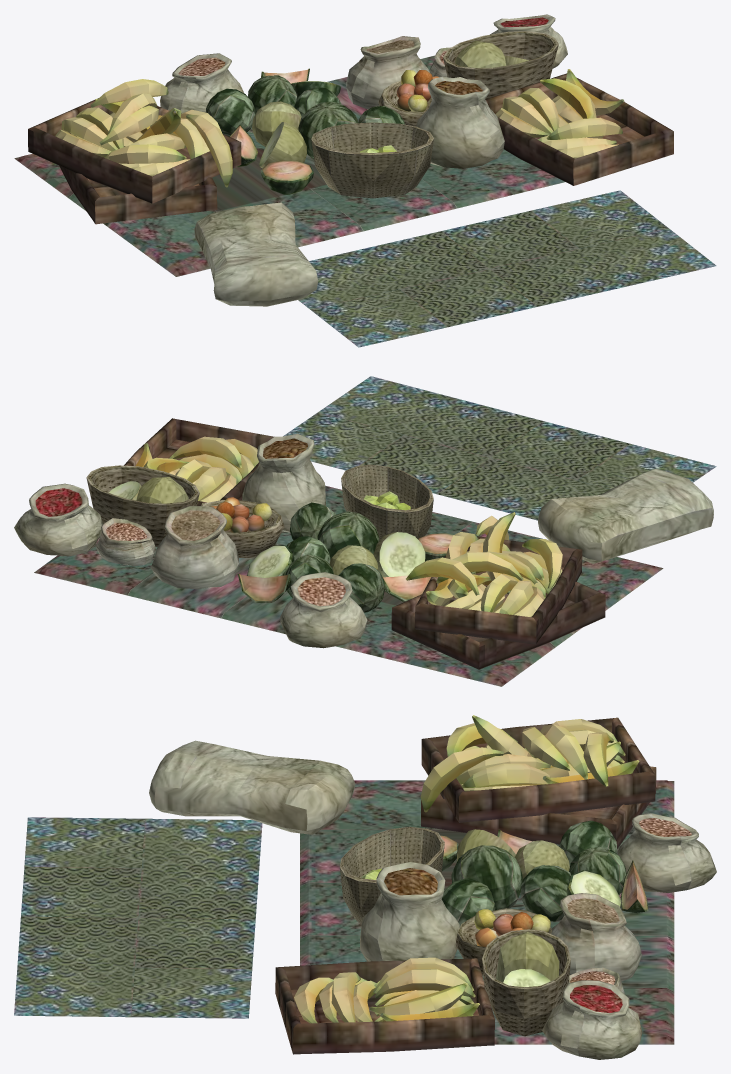
File: TW2_9_ADDONS_04_4-transformed.glb
3 views of the same model, one above another, from view 1: azimuth 30°, elevation 25°; view 2: azimuth 150°, elevation 25°; view 3: azimuth 270°, elevation 25° (orthographic). The views are drawn at different scales.
Parts seen in each view (by area): view 1: default; view 2: default; view 3: default.
Boxes of the visible parts, x1,y1,x2,y2 form: default: (14, 14, 716, 347); default: (14, 376, 716, 686); default: (14, 715, 716, 1059).
Size of the model in its own units: 2.99 by 0.5095 by 2.99.
Materials: 1 (1 with a texture image).
